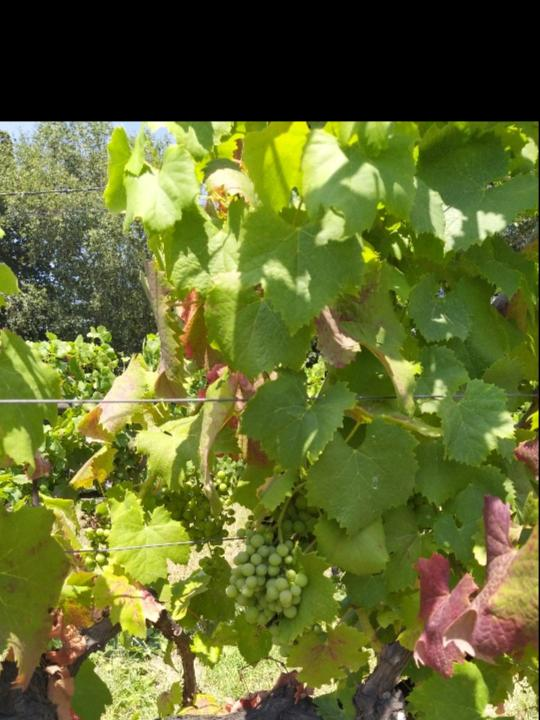grape: (224, 482, 323, 630), (155, 480, 237, 582)
